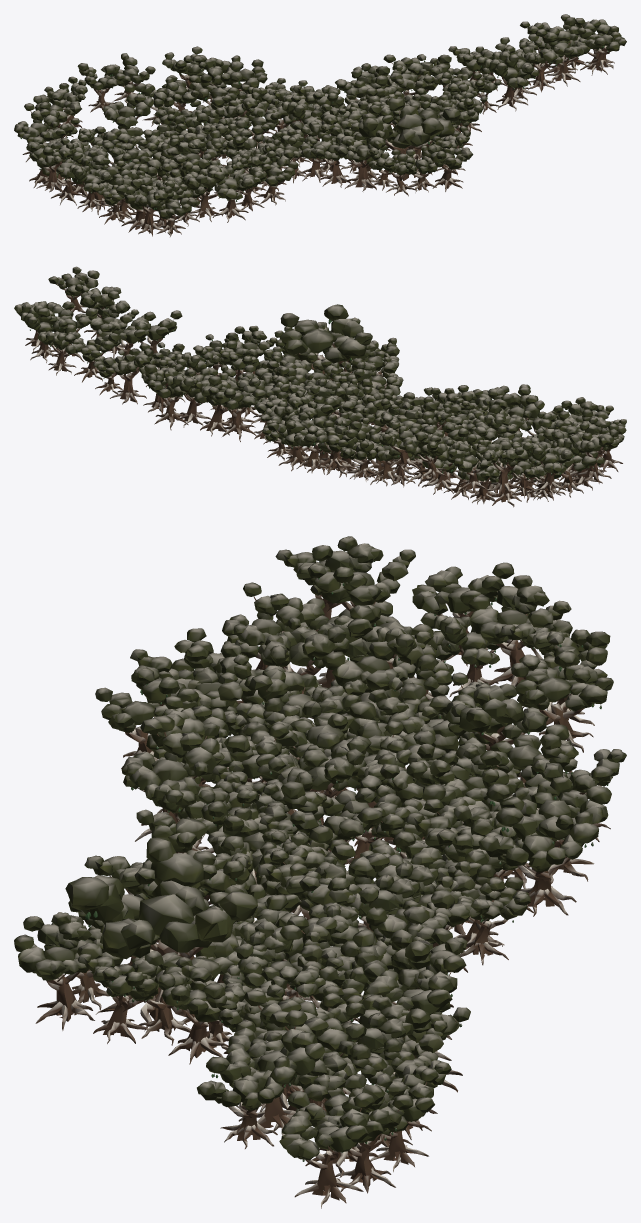
The model's file is BosqueArboles_LOD1.glb.
The picture shows the model from 3 angles, top to bottom: view 1: azimuth 30°, elevation 25°; view 2: azimuth 150°, elevation 25°; view 3: azimuth 270°, elevation 25°; orthographic projection. The views are drawn at different scales.
Visible parts, largest first — view 1: ArbolGigante, ArbolRetorcido027, ArbolRetorcido113, ArbolRetorcido046, ArbolRetorcido110, ArbolRetorcido054, ArbolRetorcido102, ArbolRetorcido067, ArbolRetorcido055, ArbolRetorcido086, ArbolRetorcido011, ArbolRetorcido077 (+72 smaller); view 2: ArbolGigante, ArbolRetorcido077, ArbolRetorcido047, ArbolRetorcido089, ArbolRetorcido092, ArbolRetorcido015, ArbolRetorcido065, ArbolRetorcido120, ArbolRetorcido086, ArbolRetorcido098, ArbolRetorcido117, ArbolRetorcido007 (+60 smaller); view 3: ArbolGigante, ArbolRetorcido112, ArbolRetorcido102, ArbolRetorcido089, ArbolRetorcido037, ArbolRetorcido087, ArbolRetorcido046, ArbolRetorcido011, ArbolRetorcido027, ArbolRetorcido110, ArbolRetorcido062, ArbolRetorcido098 (+87 smaller).
Boxes of the visible parts, x1=… form: ArbolGigante: x1=358, y1=97, x2=460, y2=183; ArbolRetorcido027: x1=536, y1=26, x2=590, y2=86; ArbolRetorcido113: x1=333, y1=130, x2=385, y2=191; ArbolRetorcido046: x1=207, y1=165, x2=256, y2=222; ArbolRetorcido110: x1=102, y1=84, x2=153, y2=149; ArbolRetorcido054: x1=484, y1=59, x2=534, y2=111; ArbolRetorcido102: x1=427, y1=136, x2=473, y2=191; ArbolRetorcido067: x1=310, y1=127, x2=356, y2=187; ArbolRetorcido055: x1=182, y1=168, x2=228, y2=221; ArbolRetorcido086: x1=14, y1=103, x2=59, y2=161; ArbolRetorcido011: x1=577, y1=25, x2=626, y2=72; ArbolRetorcido077: x1=335, y1=66, x2=389, y2=100; ArbolGigante: x1=280, y1=304, x2=372, y2=380; ArbolRetorcido077: x1=208, y1=375, x2=266, y2=441; ArbolRetorcido047: x1=102, y1=343, x2=153, y2=404; ArbolRetorcido089: x1=483, y1=442, x2=533, y2=496; ArbolRetorcido092: x1=307, y1=418, x2=362, y2=472; ArbolRetorcido015: x1=36, y1=301, x2=97, y2=361; ArbolRetorcido065: x1=447, y1=440, x2=491, y2=494; ArbolRetorcido120: x1=144, y1=364, x2=196, y2=430; ArbolRetorcido086: x1=528, y1=443, x2=573, y2=495; ArbolRetorcido098: x1=569, y1=423, x2=619, y2=483; ArbolRetorcido117: x1=193, y1=378, x2=243, y2=436; ArbolRetorcido007: x1=65, y1=329, x2=119, y2=382; ArbolGigante: x1=65, y1=837, x2=257, y2=1031; ArbolRetorcido112: x1=478, y1=807, x2=598, y2=916; ArbolRetorcido102: x1=14, y1=912, x2=105, y2=1030; ArbolRetorcido089: x1=468, y1=575, x2=571, y2=686; ArbolRetorcido037: x1=279, y1=1092, x2=375, y2=1208; ArbolRetorcido087: x1=511, y1=650, x2=613, y2=752; ArbolRetorcido046: x1=121, y1=715, x2=219, y2=843; ArbolRetorcido011: x1=197, y1=1056, x2=295, y2=1148; ArbolRetorcido027: x1=226, y1=1010, x2=325, y2=1135; ArbolRetorcido110: x1=445, y1=683, x2=548, y2=777; ArbolRetorcido062: x1=281, y1=780, x2=382, y2=852; ArbolRetorcido098: x1=312, y1=536, x2=415, y2=611.
Size of the model in its own units: 216 by 30.75 by 99.06.
